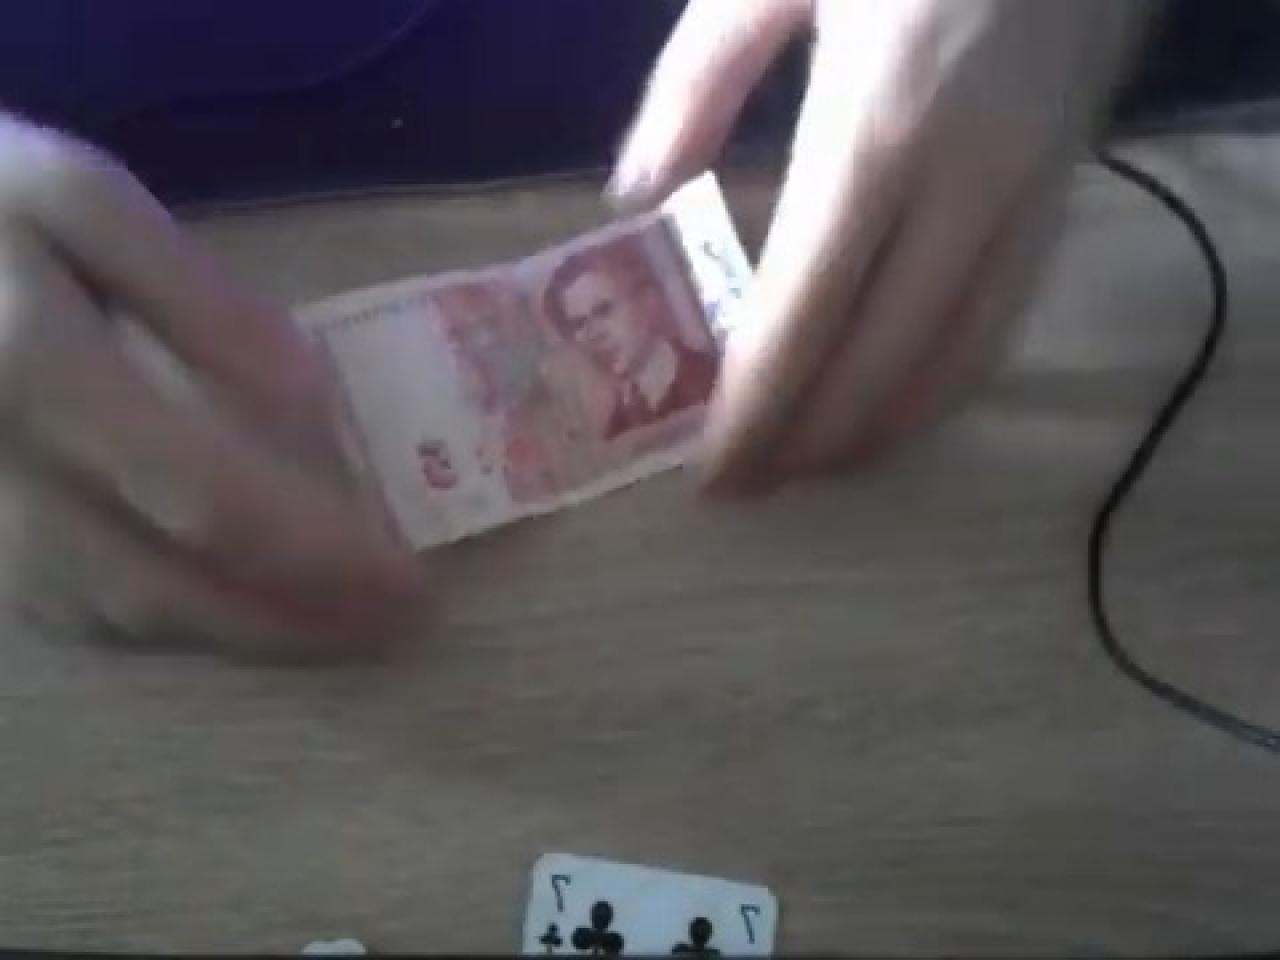5leva: (293, 178, 749, 555)
